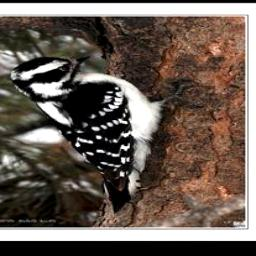Woodpecker: (10, 56, 193, 218)
